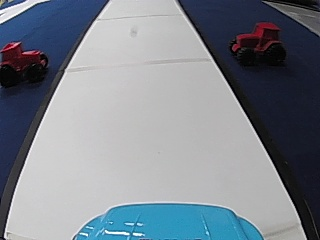tractor: (228, 19, 285, 67), (0, 39, 47, 86)
